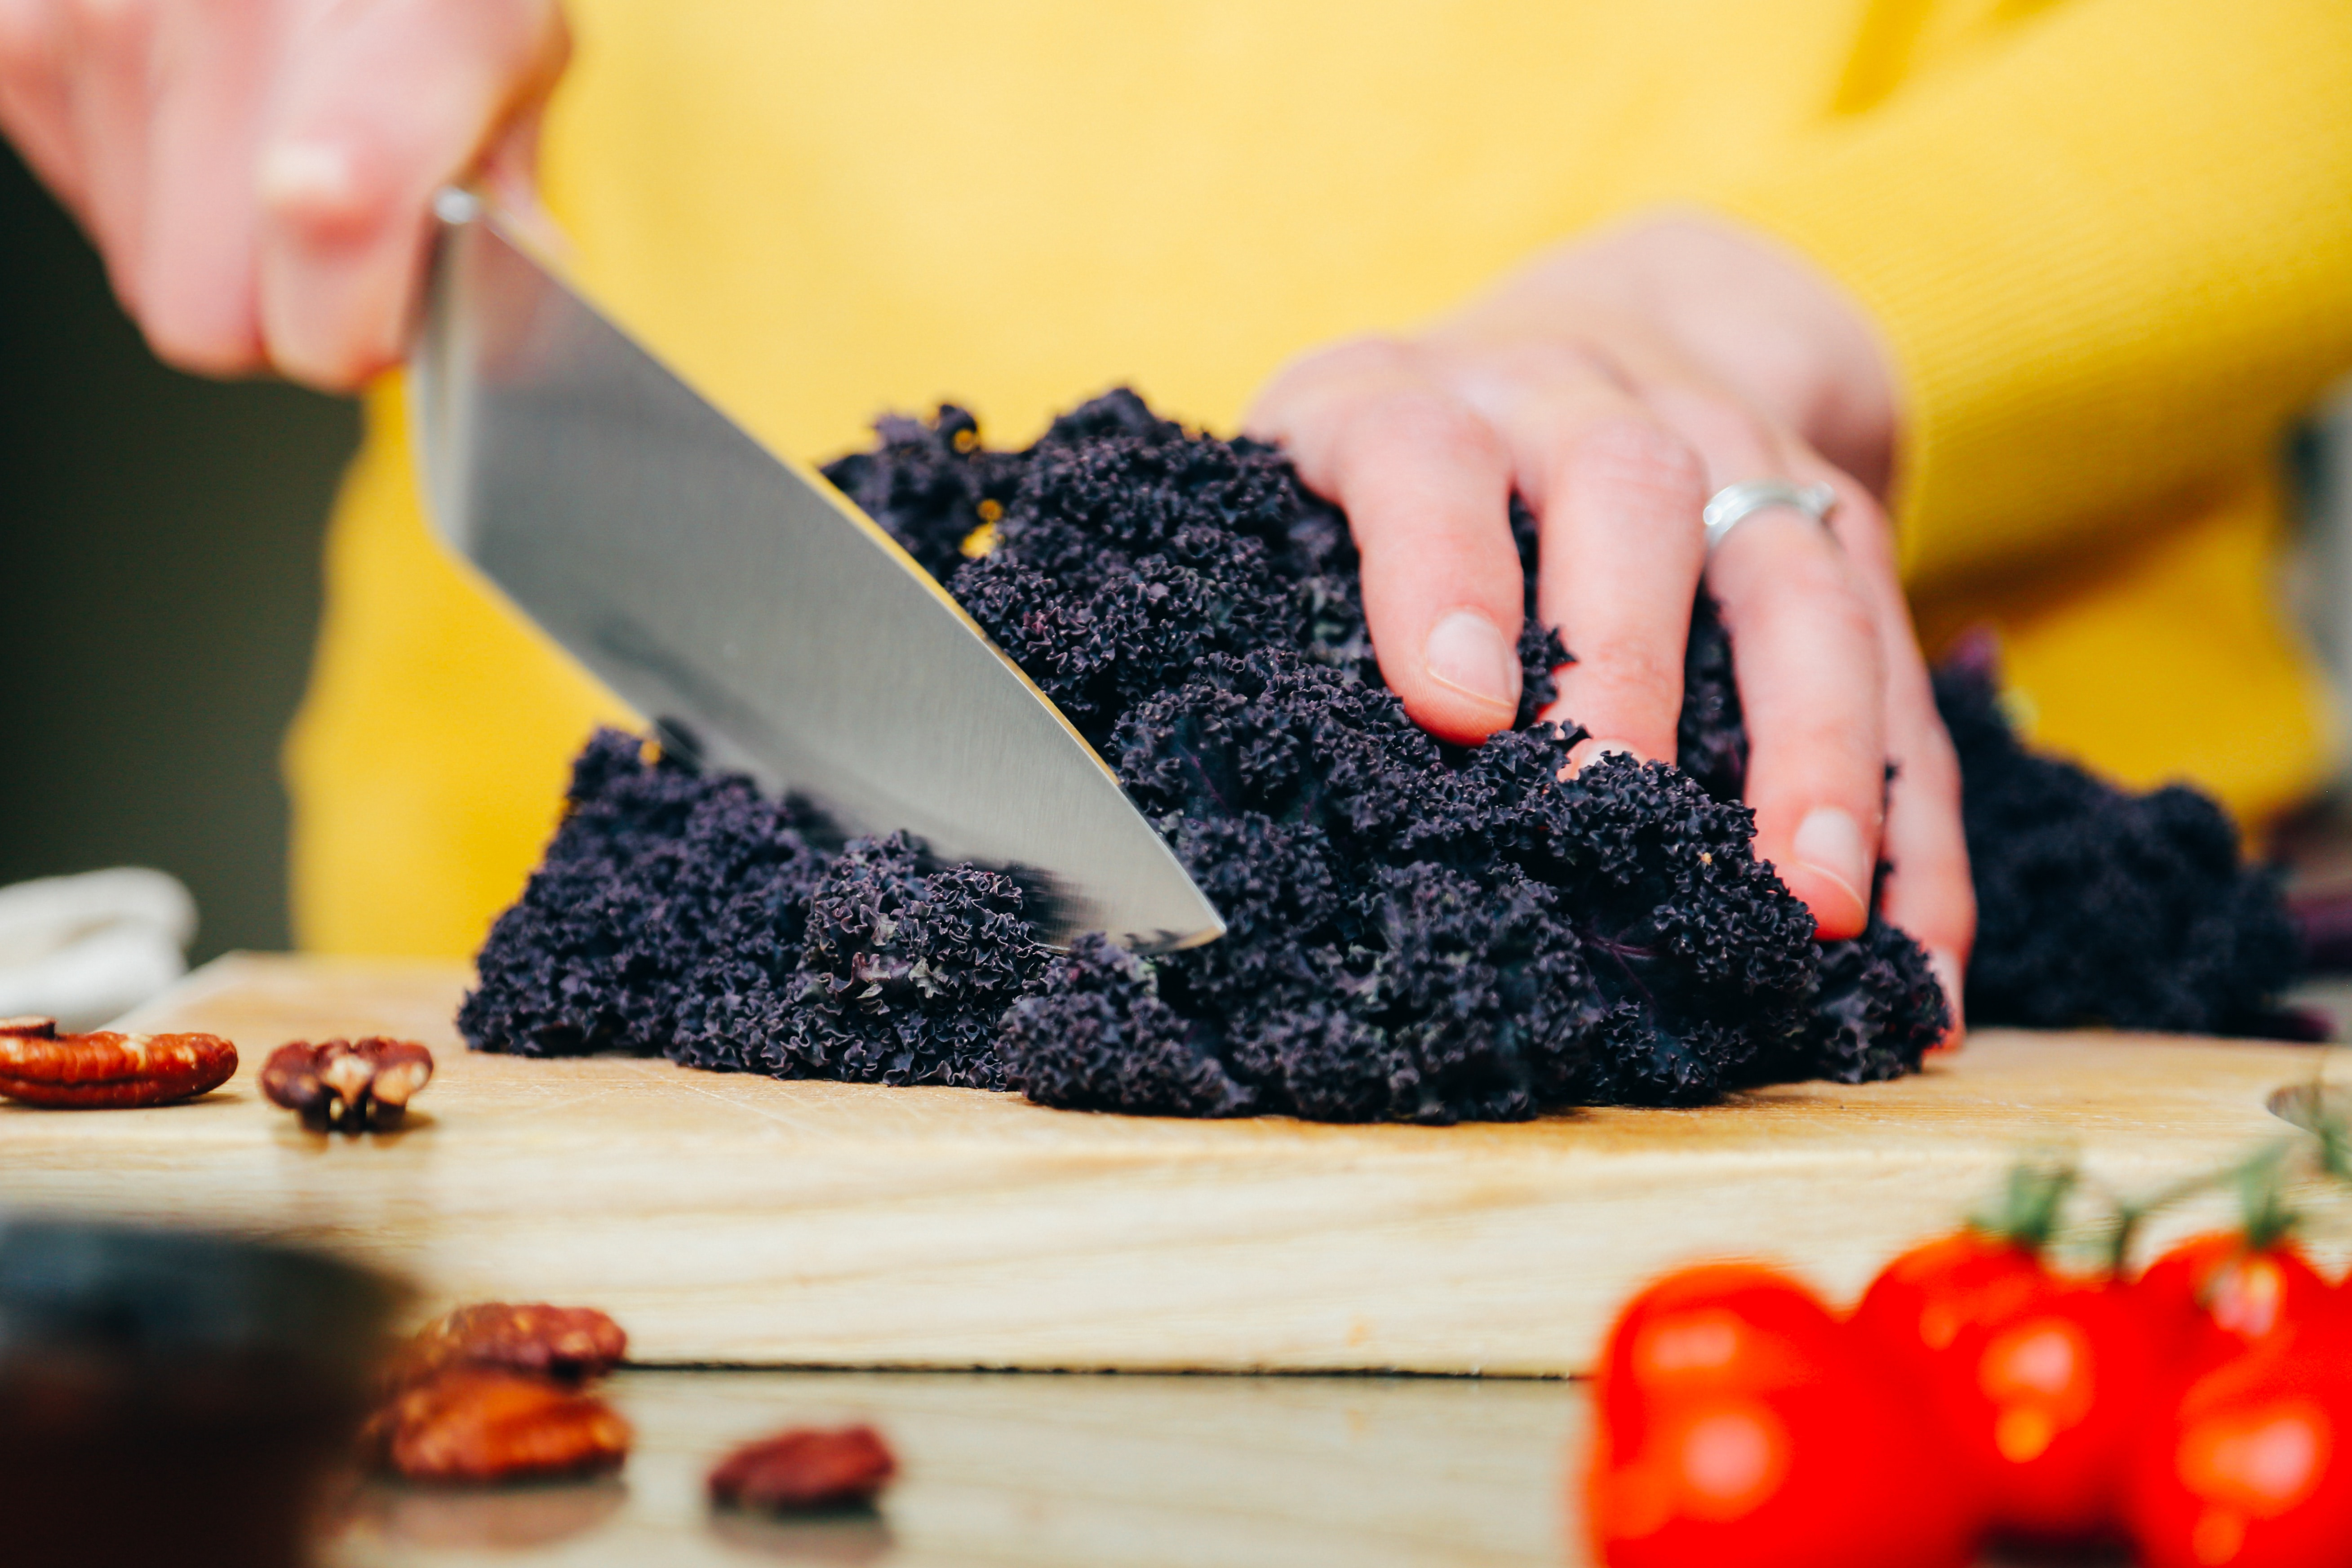knife: (396, 178, 1248, 996)
